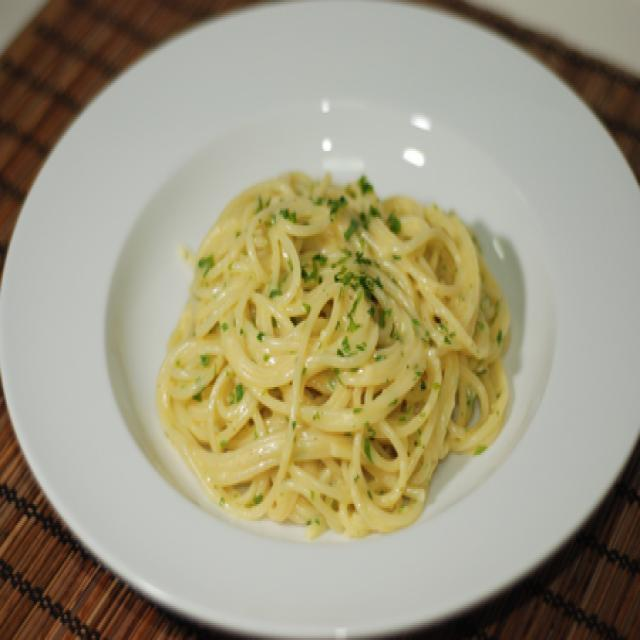Pasta: (158, 153, 518, 543)
